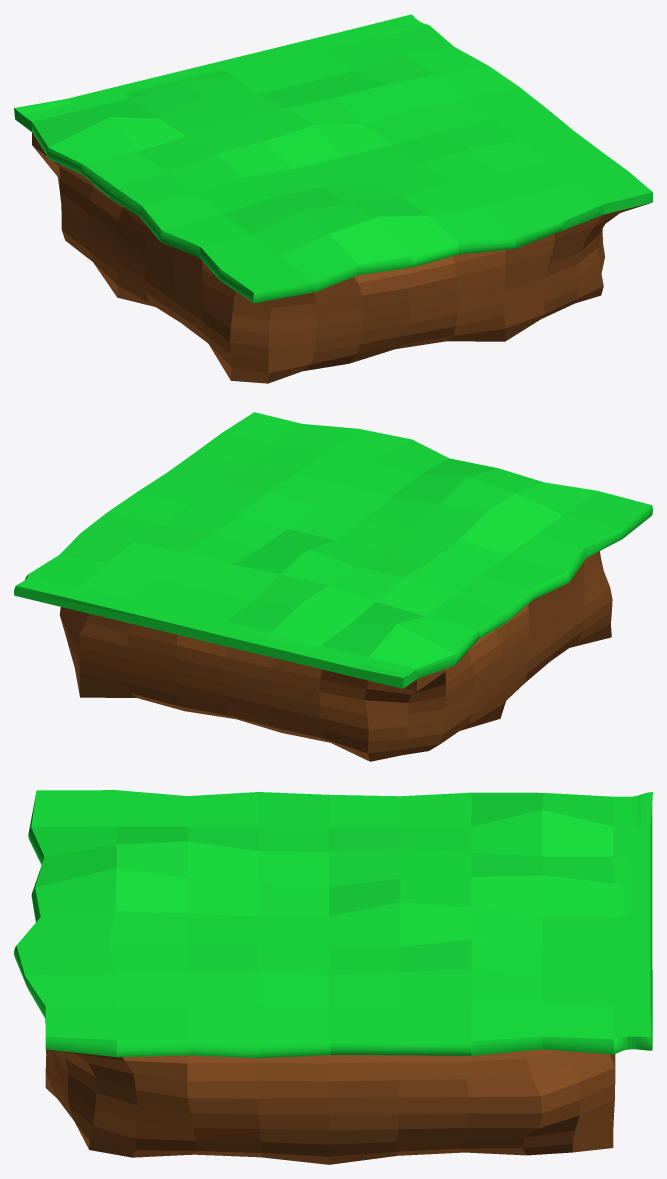
File: ground_platform_s.fbx
The picture shows the model from 3 angles, top to bottom: view 1: azimuth 30°, elevation 25°; view 2: azimuth 150°, elevation 25°; view 3: azimuth 270°, elevation 25°; orthographic projection. The views are drawn at different scales.
Parts seen in each view (by area): view 1: Cube.001, Cube; view 2: Cube.001, Cube; view 3: Cube.001, Cube.
Boxes of the visible parts, left/top/right/bottom form: Cube.001: left=14, top=14, right=652, bottom=303; Cube: left=32, top=132, right=649, bottom=383; Cube.001: left=14, top=412, right=652, bottom=688; Cube: left=59, top=551, right=612, bottom=761; Cube.001: left=14, top=790, right=652, bottom=1058; Cube: left=45, top=1019, right=615, bottom=1164.
Size of the model in its own units: 212 by 63.34 by 225.
